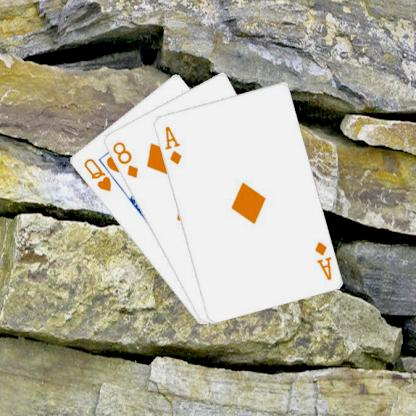8D: (110, 139, 140, 179)
AD: (161, 123, 182, 166), (312, 239, 332, 281)
QH: (80, 155, 112, 193)
